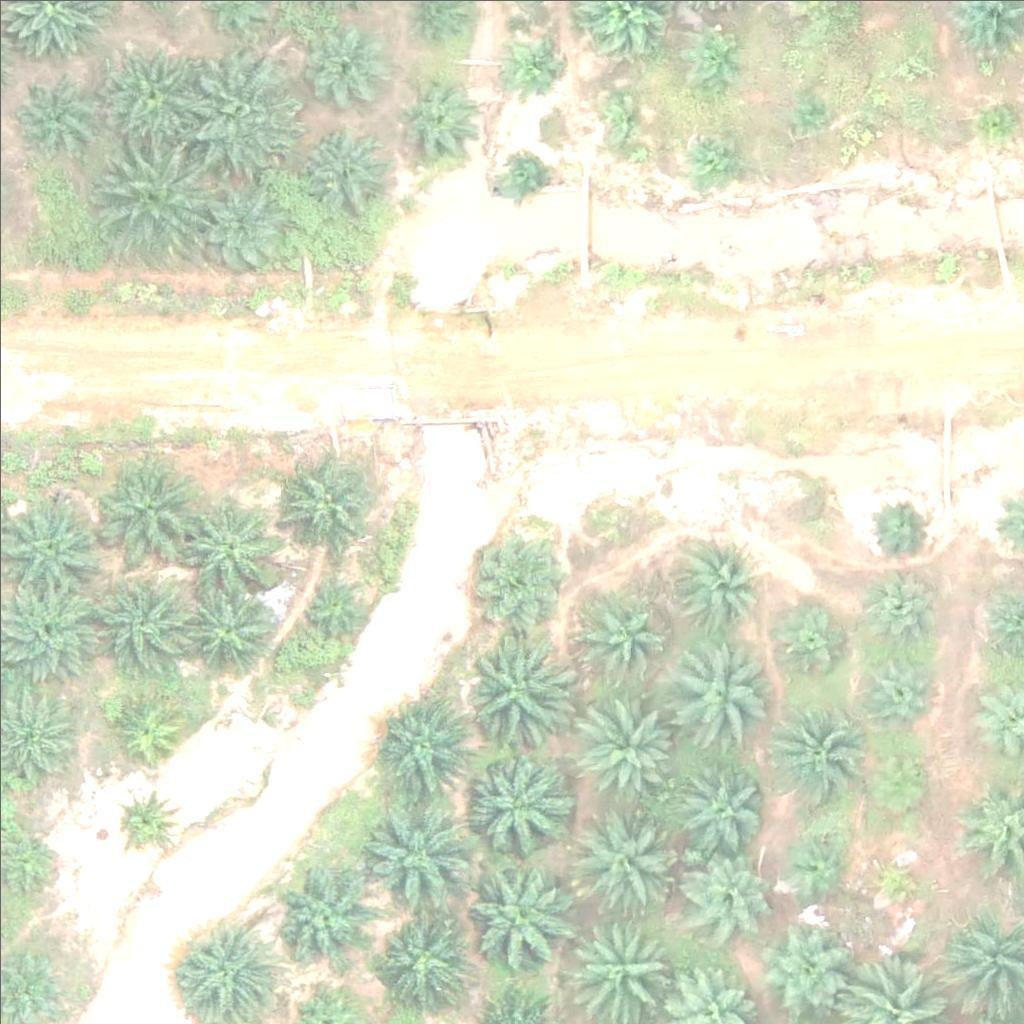Kelapa_Sawit: (91, 449, 204, 562), (362, 803, 475, 916), (461, 859, 574, 972), (457, 748, 570, 861), (96, 133, 208, 246), (186, 54, 298, 167), (459, 636, 571, 749), (102, 47, 202, 148), (196, 180, 296, 281), (93, 566, 193, 667), (178, 575, 278, 676), (376, 694, 476, 795), (276, 449, 376, 550), (468, 521, 568, 622), (571, 914, 671, 1015), (576, 802, 676, 903), (580, 694, 680, 795), (752, 921, 852, 1022), (761, 707, 861, 808), (176, 918, 276, 1018), (183, 496, 283, 596), (270, 865, 370, 965), (669, 643, 769, 743), (377, 910, 465, 998), (684, 847, 772, 935), (859, 564, 947, 652), (303, 121, 390, 210), (682, 759, 769, 848), (9, 69, 96, 157), (303, 23, 390, 111), (393, 75, 480, 163), (575, 589, 662, 677), (673, 540, 760, 628), (850, 645, 937, 733), (778, 826, 853, 902), (859, 739, 934, 815), (771, 605, 846, 680), (110, 687, 185, 762), (295, 563, 370, 638), (113, 786, 176, 849), (868, 495, 930, 558), (865, 851, 927, 914), (508, 43, 558, 94), (501, 154, 551, 204), (598, 91, 648, 141), (690, 137, 740, 187), (695, 34, 745, 84), (793, 88, 831, 126), (980, 104, 1017, 142), (903, 53, 928, 79)
